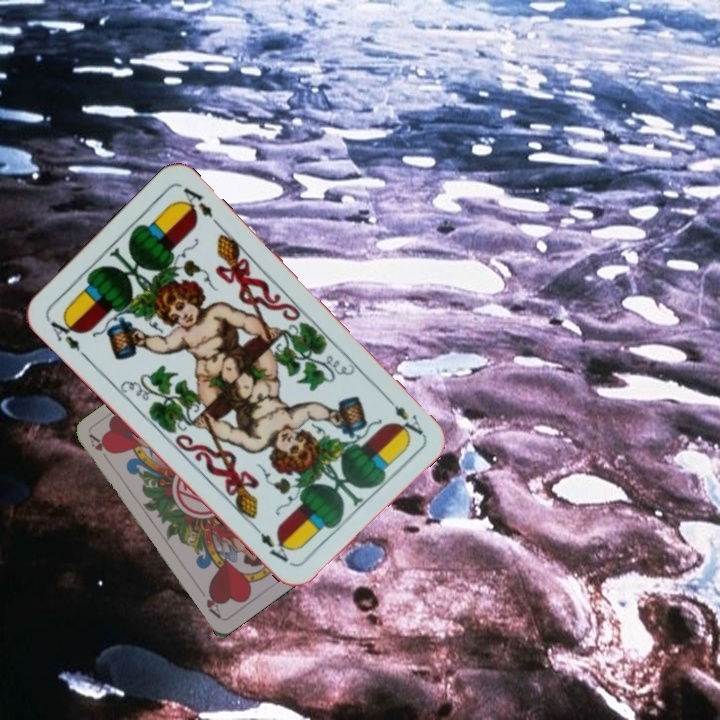EA: (43, 312, 90, 361), (380, 391, 427, 438)
HA: (85, 431, 112, 456)
